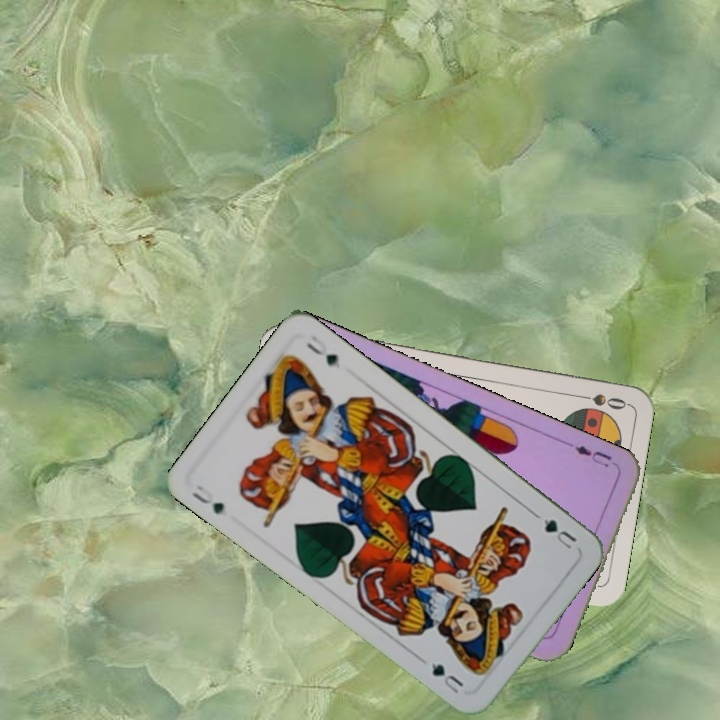EU: (571, 441, 621, 470)
GU: (531, 509, 580, 552), (187, 481, 227, 518)
SO: (570, 389, 629, 413)
